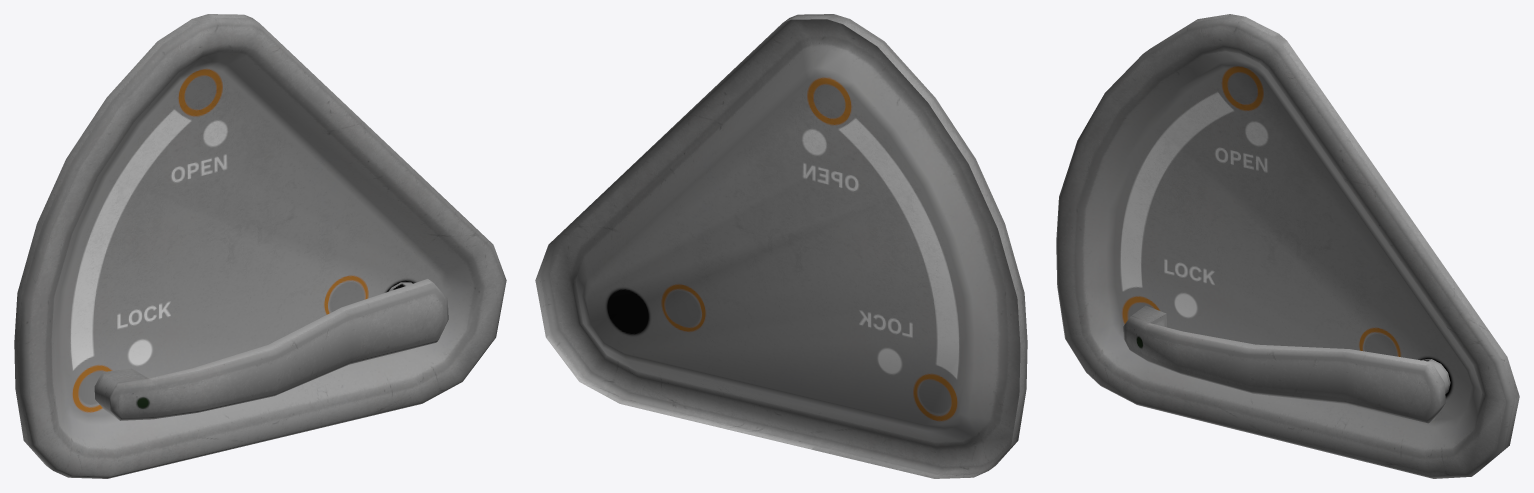
File: Lever B1B.fbx
The picture shows the model from 3 angles, left to right: view 1: azimuth 30°, elevation 25°; view 2: azimuth 150°, elevation 25°; view 3: azimuth 330°, elevation 25°; orthographic projection. The views are drawn at different scales.
Visible parts, largest first — view 1: Lever B1B, LeverHandle B1B; view 2: Lever B1B; view 3: Lever B1B, LeverHandle B1B.
Part boxes in pixels (x1,y1,x2,y2): Lever B1B: (14,14,506,478); LeverHandle B1B: (94,279,448,420); Lever B1B: (535,14,1027,478); Lever B1B: (1056,14,1519,478); LeverHandle B1B: (1123,305,1450,423).
Size of the model in its own units: 30.65 by 26.27 by 3.89.
Materials: 1 (1 with a texture image).
